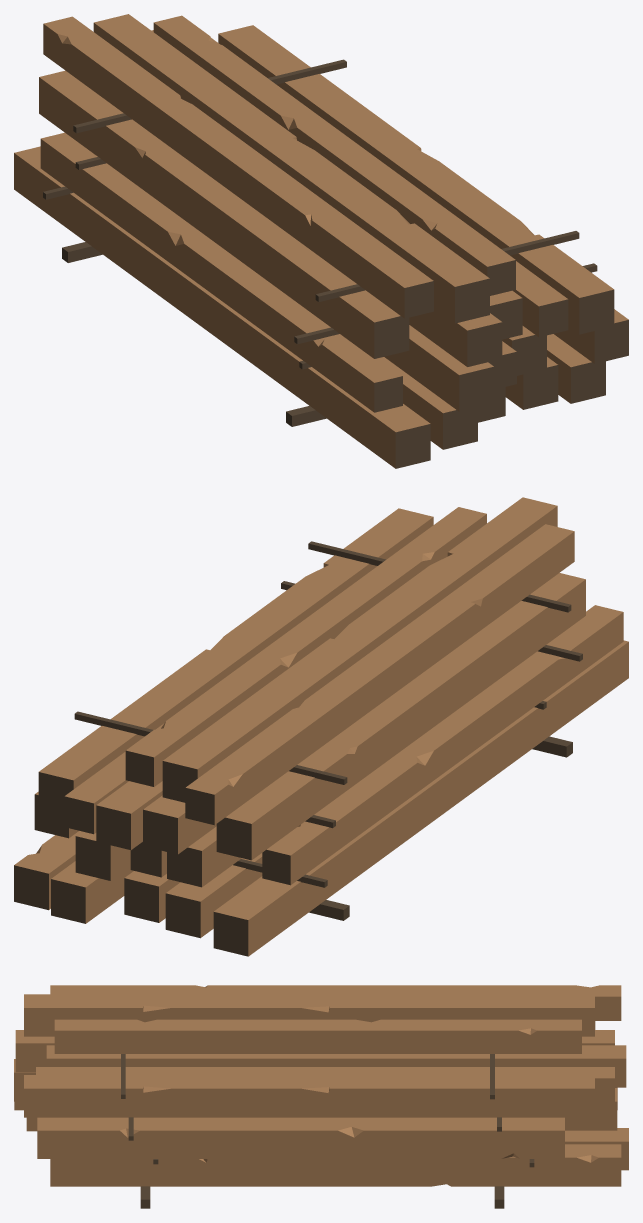
Rendered from SM_wooden_blocks.gltf.
3 renders of one model, top to bottom at view 1: azimuth 30°, elevation 25°; view 2: azimuth 150°, elevation 25°; view 3: azimuth 270°, elevation 25°, orthographic. The views are drawn at different scales.
Parts seen in each view (by area): view 1: SM_wooden_blocks; view 2: SM_wooden_blocks; view 3: SM_wooden_blocks.
Part boxes in pixels (x1=…): SM_wooden_blocks: x1=14, y1=14, x2=628, y2=468; SM_wooden_blocks: x1=14, y1=497, x2=628, y2=956; SM_wooden_blocks: x1=14, y1=985, x2=628, y2=1208.
Bounding box in the file's own units: 2.32 × 1.27 × 5.22.
Materials: 1 (1 with a texture image).
